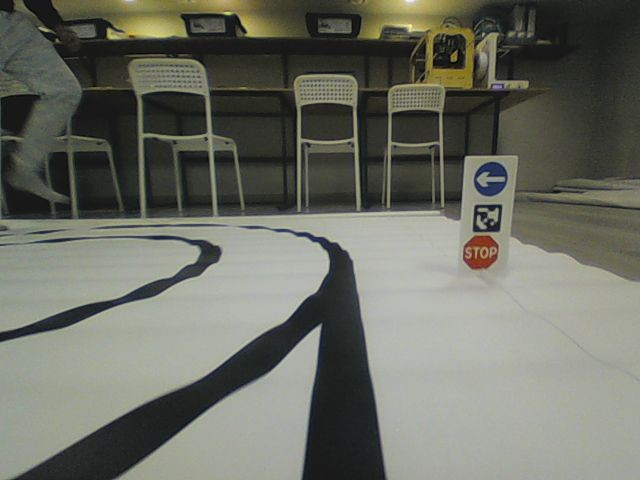Stop: (462, 233, 500, 270)
